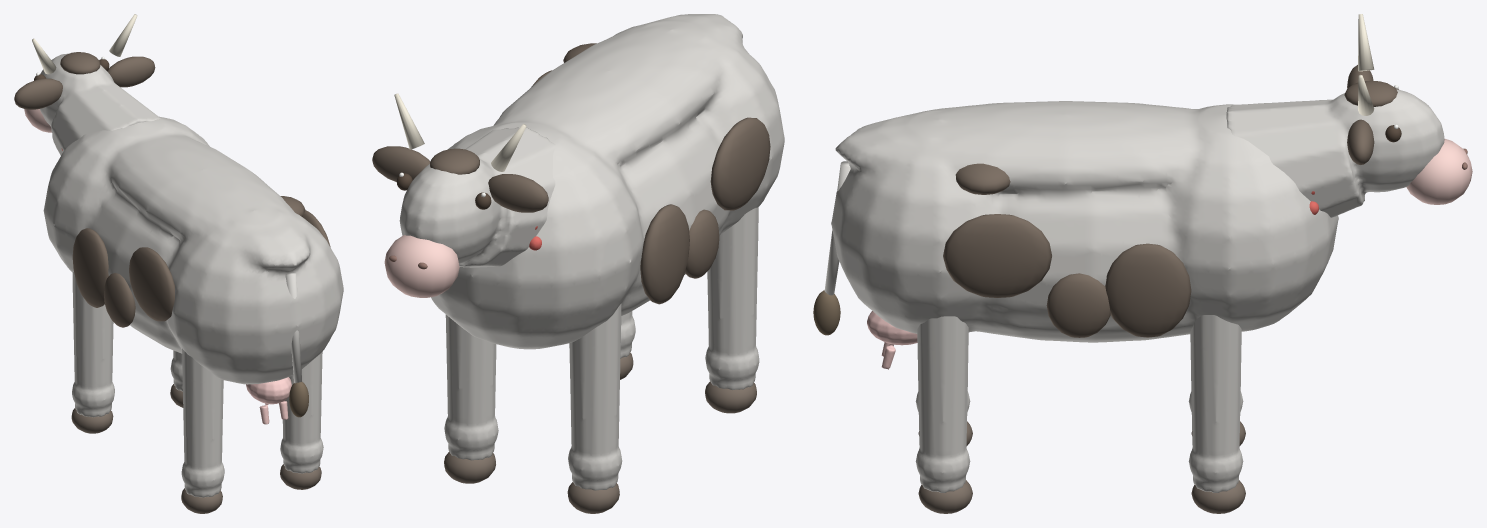
File: Cow.fbx
3 renders of one model, left to right at view 1: azimuth 30°, elevation 25°; view 2: azimuth 150°, elevation 25°; view 3: azimuth 270°, elevation 25°, orthographic. The views are drawn at different scales.
Parts seen in each view (by area): view 1: Cow_Body, Cow_Head, Cow_Leg_HindL, Cow_Leg_FrontL, Cow_Leg_HindR, Cow_Patch_L0, Cow_Patch_L1, Cow_Patch_L2, Cow_Ear_L, Cow_Udder, Cow_Ear_R, Cow_HeadPatch (+8 smaller); view 2: Cow_Body, Cow_Head, Cow_Leg_FrontL, Cow_Leg_HindL, Cow_Leg_FrontR, Cow_Patch_L0, Cow_Patch_L1, Cow_Muzzle, Cow_Ear_L, Cow_Patch_L2, Cow_Ear_R, Cow_Hoof_FrontL (+6 smaller); view 3: Cow_Body, Cow_Head, Cow_Leg_HindR, Cow_Leg_FrontR, Cow_Patch_R0, Cow_Patch_R1, Cow_Patch_R2, Cow_Muzzle, Cow_PatchTop, Cow_Udder, Cow_Hoof_FrontR, Cow_Hoof_HindR (+4 smaller).
Part boxes in pixels (left/top/right/bottom): Cow_Body: left=43, top=116, right=343, bottom=384; Cow_Head: left=40, top=53, right=160, bottom=155; Cow_Leg_HindL: left=181, top=348, right=224, bottom=497; Cow_Leg_FrontL: left=72, top=272, right=114, bottom=417; Cow_Leg_HindR: left=280, top=352, right=323, bottom=473; Cow_Patch_L0: left=129, top=247, right=174, bottom=321; Cow_Patch_L1: left=72, top=228, right=108, bottom=307; Cow_Patch_L2: left=104, top=273, right=135, bottom=327; Cow_Ear_L: left=14, top=78, right=62, bottom=109; Cow_Udder: left=246, top=377, right=291, bottom=424; Cow_Ear_R: left=107, top=56, right=155, bottom=87; Cow_HeadPatch: left=60, top=52, right=100, bottom=74; Cow_Body: left=431, top=14, right=784, bottom=349; Cow_Head: left=399, top=127, right=555, bottom=267; Cow_Leg_FrontL: left=568, top=303, right=622, bottom=490; Cow_Leg_HindL: left=705, top=206, right=759, bottom=389; Cow_Leg_FrontR: left=444, top=314, right=498, bottom=460; Cow_Patch_L0: left=710, top=117, right=770, bottom=210; Cow_Patch_L1: left=640, top=204, right=689, bottom=304; Cow_Muzzle: left=384, top=235, right=459, bottom=297; Cow_Ear_L: left=488, top=174, right=548, bottom=212; Cow_Patch_L2: left=685, top=209, right=719, bottom=278; Cow_Ear_R: left=372, top=146, right=430, bottom=181; Cow_Hoof_FrontL: left=567, top=482, right=619, bottom=513; Cow_Body: left=831, top=101, right=1338, bottom=342; Cow_Head: left=1226, top=89, right=1444, bottom=217; Cow_Leg_HindR: left=915, top=316, right=970, bottom=492; Cow_Leg_FrontR: left=1188, top=315, right=1243, bottom=492; Cow_Patch_R0: left=943, top=214, right=1051, bottom=297; Cow_Patch_R1: left=1105, top=243, right=1191, bottom=337; Cow_Patch_R2: left=1046, top=273, right=1110, bottom=337; Cow_Muzzle: left=1406, top=138, right=1472, bottom=204; Cow_PatchTop: left=955, top=163, right=1010, bottom=194; Cow_Udder: left=867, top=311, right=917, bottom=369; Cow_Hoof_FrontR: left=1191, top=480, right=1245, bottom=513; Cow_Hoof_HindR: left=918, top=480, right=972, bottom=513.
Size of the model in its own units: 0.92 by 1.76 by 2.42.
